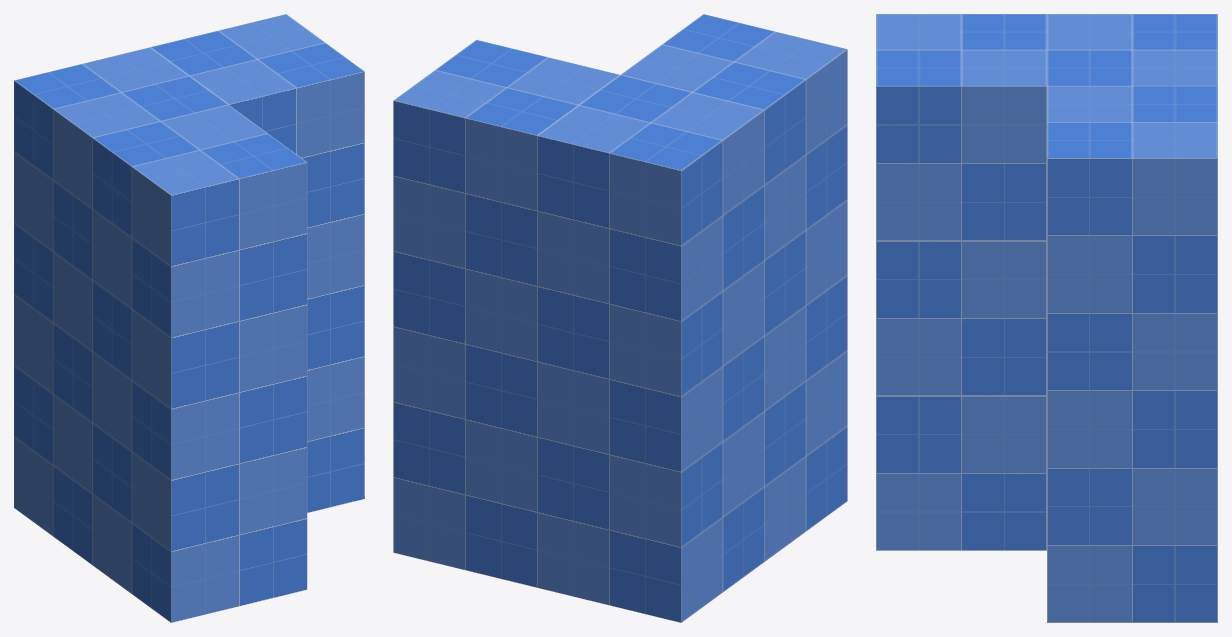
The model's file is WL_CORNER.gltf.
The picture shows the model from 3 angles, left to right: view 1: azimuth 30°, elevation 25°; view 2: azimuth 150°, elevation 25°; view 3: azimuth 270°, elevation 25°; orthographic projection. The views are drawn at different scales.
Parts seen in each view (by area): view 1: WL_CORNER; view 2: WL_CORNER; view 3: WL_CORNER.
Part boxes in pixels (box(x1,y1,x2,y2)): WL_CORNER: box(14, 14, 364, 622); WL_CORNER: box(393, 14, 847, 622); WL_CORNER: box(876, 14, 1217, 622).
Bounding box in the file's own units: 2 × 3 × 2.
Materials: 1 (1 with a texture image).
